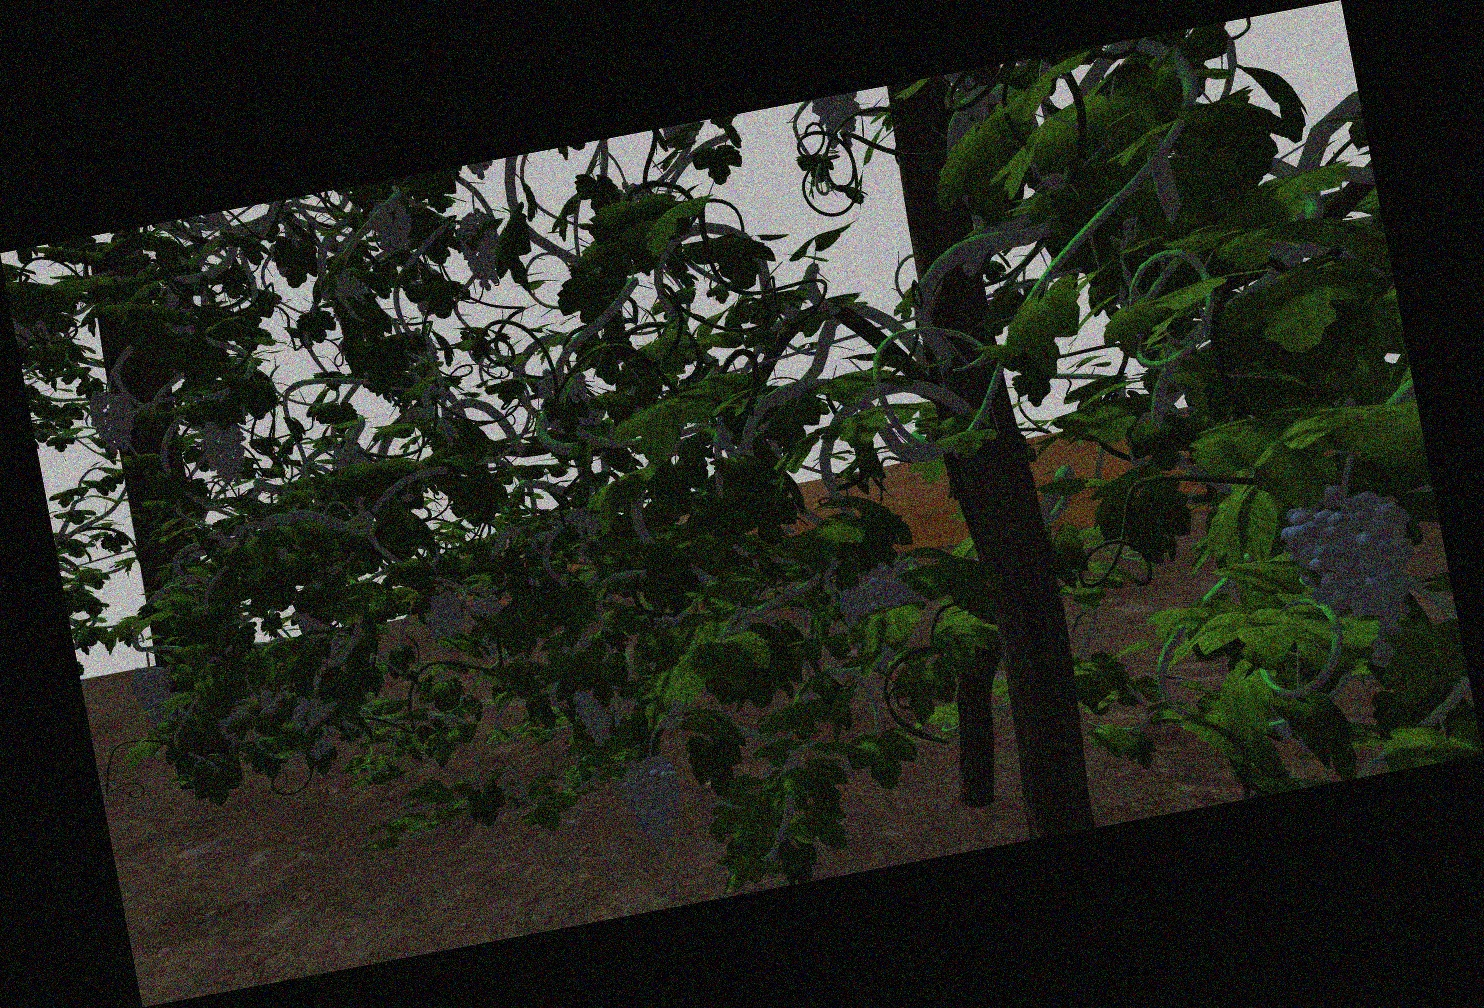grape: (1290, 480, 1419, 670), (626, 751, 686, 848), (835, 562, 919, 618), (459, 209, 503, 289), (201, 418, 249, 485), (91, 389, 138, 454), (572, 682, 617, 745), (374, 198, 412, 256), (131, 664, 173, 709), (426, 592, 464, 640), (293, 694, 338, 731), (471, 594, 501, 618)
